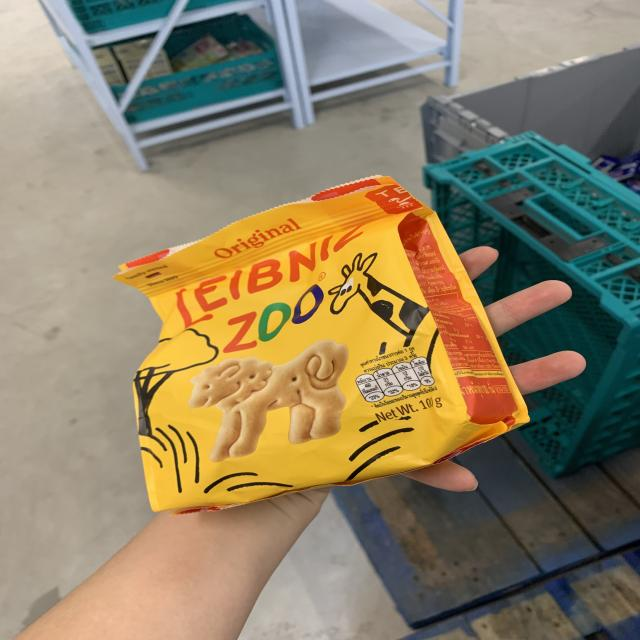object_name: (142, 267, 466, 467)
